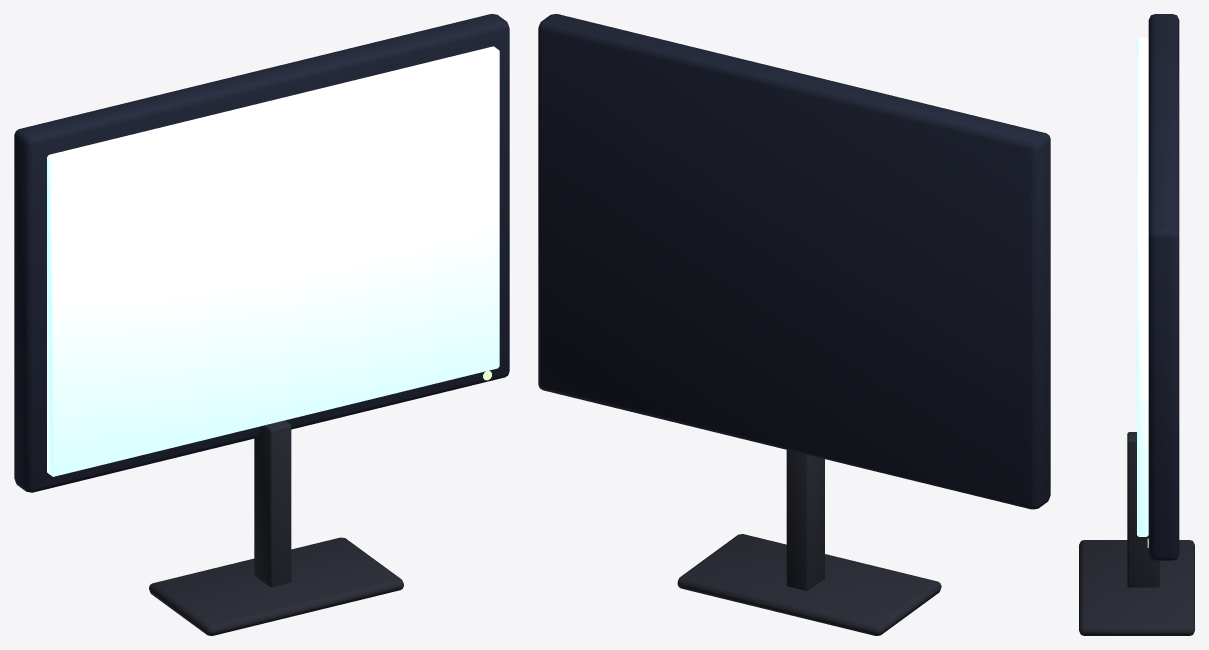
File: prop_monitor_v2.glb
3 renders of one model, left to right at view 1: azimuth 30°, elevation 25°; view 2: azimuth 150°, elevation 25°; view 3: azimuth 270°, elevation 25°, orthographic. The views are drawn at different scales.
Visible parts, largest first — view 1: MonitorV2; view 2: MonitorV2; view 3: MonitorV2.
Boxes of the visible parts, <box> form: MonitorV2: <box>14,14,509,635</box>; MonitorV2: <box>538,14,1050,635</box>; MonitorV2: <box>1079,14,1194,635</box>.
Bounding box in the file's own units: 2.7 × 2.7 × 0.6.
